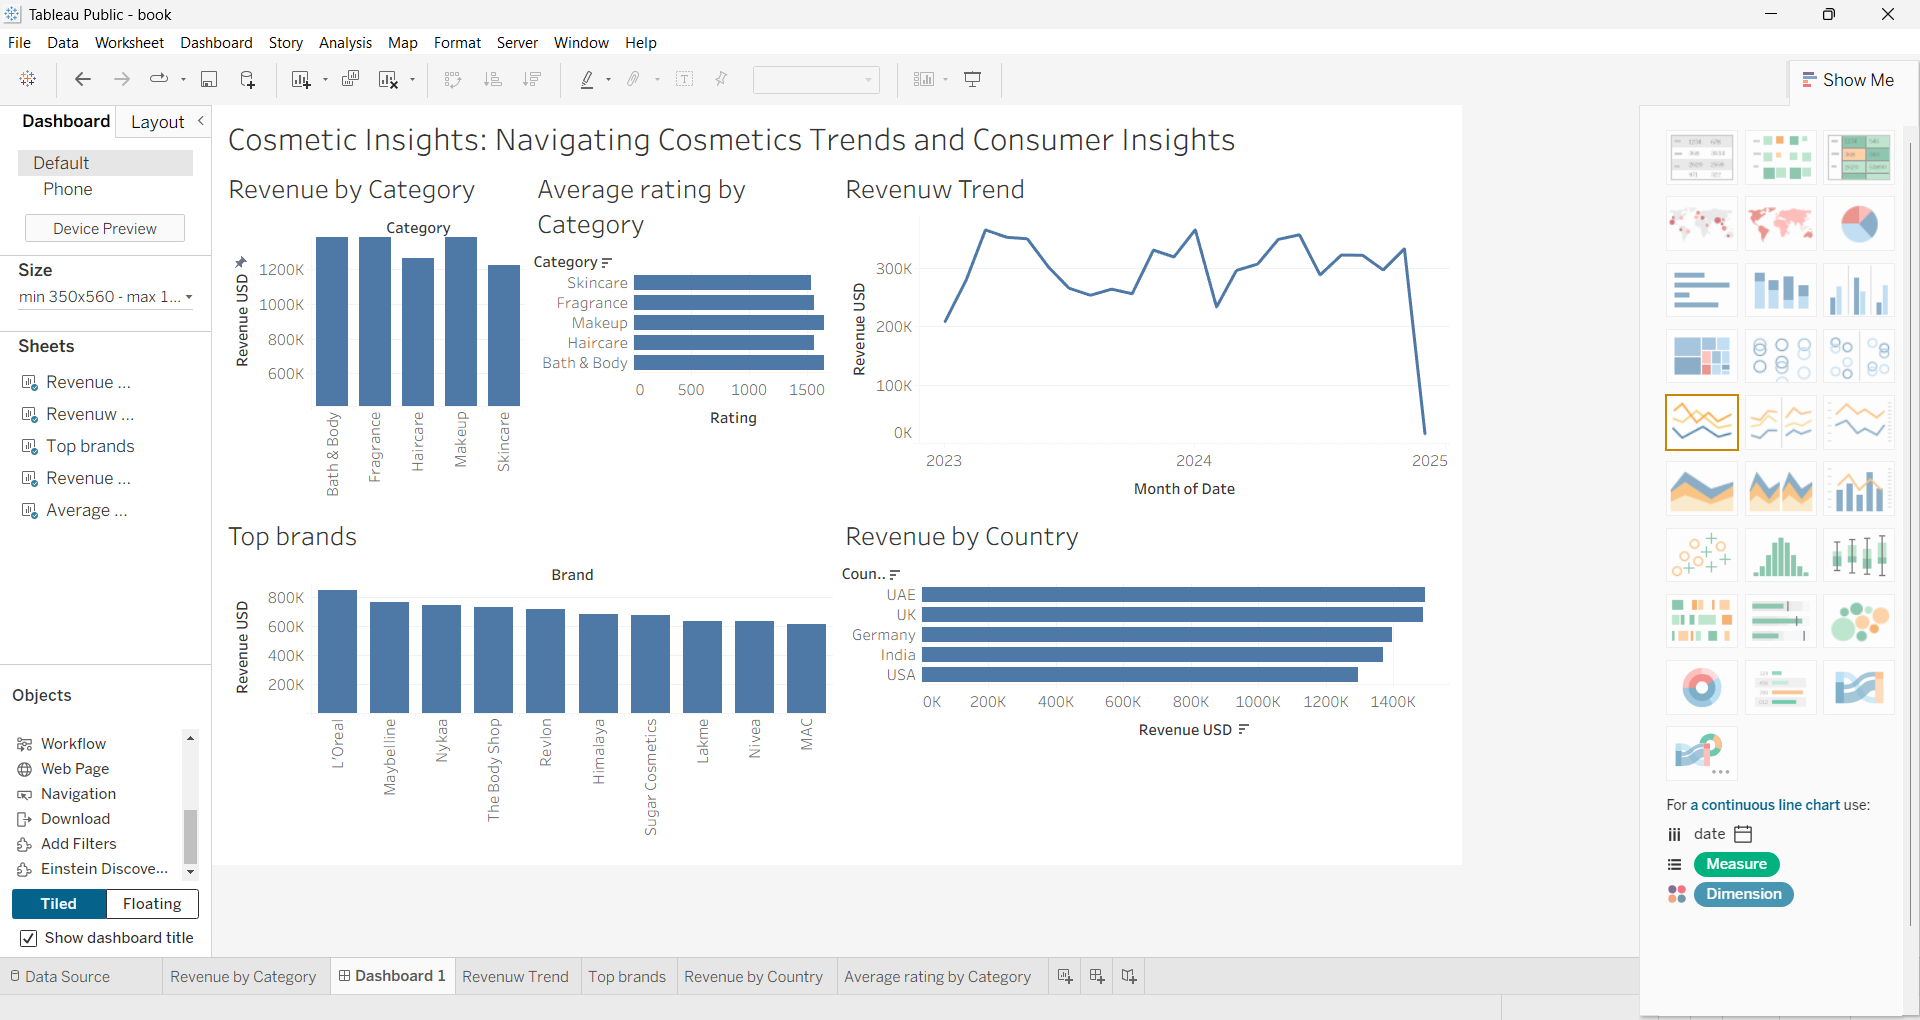

Layout of this report page (visuals, bound fields, positions):
{"tool":"tableau","page":{"name":"Dashboard 1","canvas":[1000,1000],"units":"permille","ordinal":0},"visuals":[{"type":"title","box":[6.4,10.5,987.2,65.8]},{"type":"worksheet","title":"Revenue by Category","mark":"Automatic","rows":["Revenue_USD"],"cols":["Category"],"box":[6.4,76.3,246.8,456.6]},{"type":"worksheet","title":"Average rating by Category","mark":"Automatic","rows":["Category"],"cols":["Rating"],"box":[253.2,76.3,246.8,456.6]},{"type":"worksheet","title":"Revenuw Trend","mark":"Automatic","rows":["Revenue_USD"],"cols":["Date"],"box":[500,76.3,493.6,456.6]},{"type":"worksheet","title":"Top brands","mark":"Automatic","rows":["Revenue_USD"],"cols":["Brand"],"box":[6.4,532.9,493.6,456.6]},{"type":"worksheet","title":"Revenue by Country","mark":"Automatic","rows":["Country"],"cols":["Revenue_USD"],"box":[500,532.9,493.6,456.6]}]}

Visuals, with their boxes on the dashboard's canvas, which has no fixed pixel size, in thousandths of its width and height (x1, y1, x2, y2). These are canvas units, not pixel positions in the 1920x1020 screenshot, which may show the page scaled, cropped or inside an application window:
title: bbox=(6, 10, 994, 76)
"Revenue by Category" worksheet: bbox=(6, 76, 253, 533)
"Average rating by Category" worksheet: bbox=(253, 76, 500, 533)
"Revenuw Trend" worksheet: bbox=(500, 76, 994, 533)
"Top brands" worksheet: bbox=(6, 533, 500, 990)
"Revenue by Country" worksheet: bbox=(500, 533, 994, 990)
